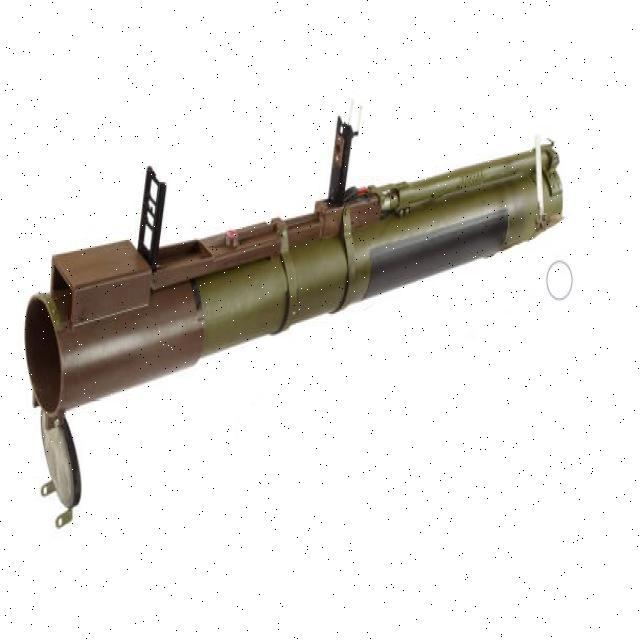bazooka: (14, 93, 574, 529)
